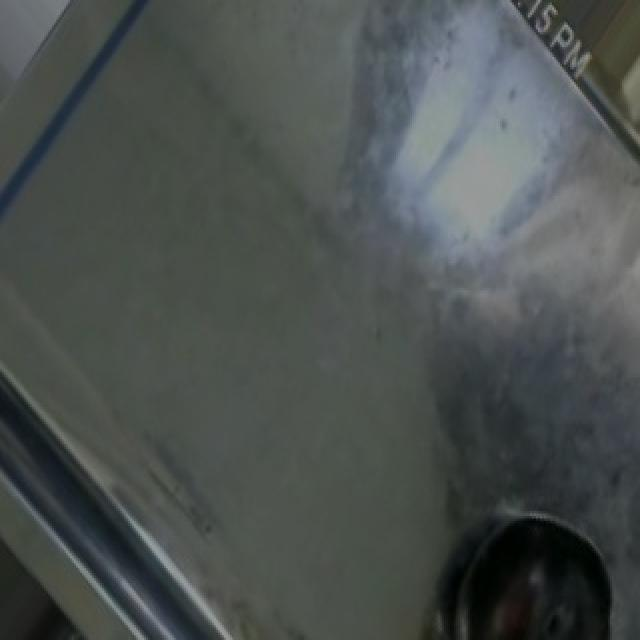Fruit: (444, 501, 636, 640)
